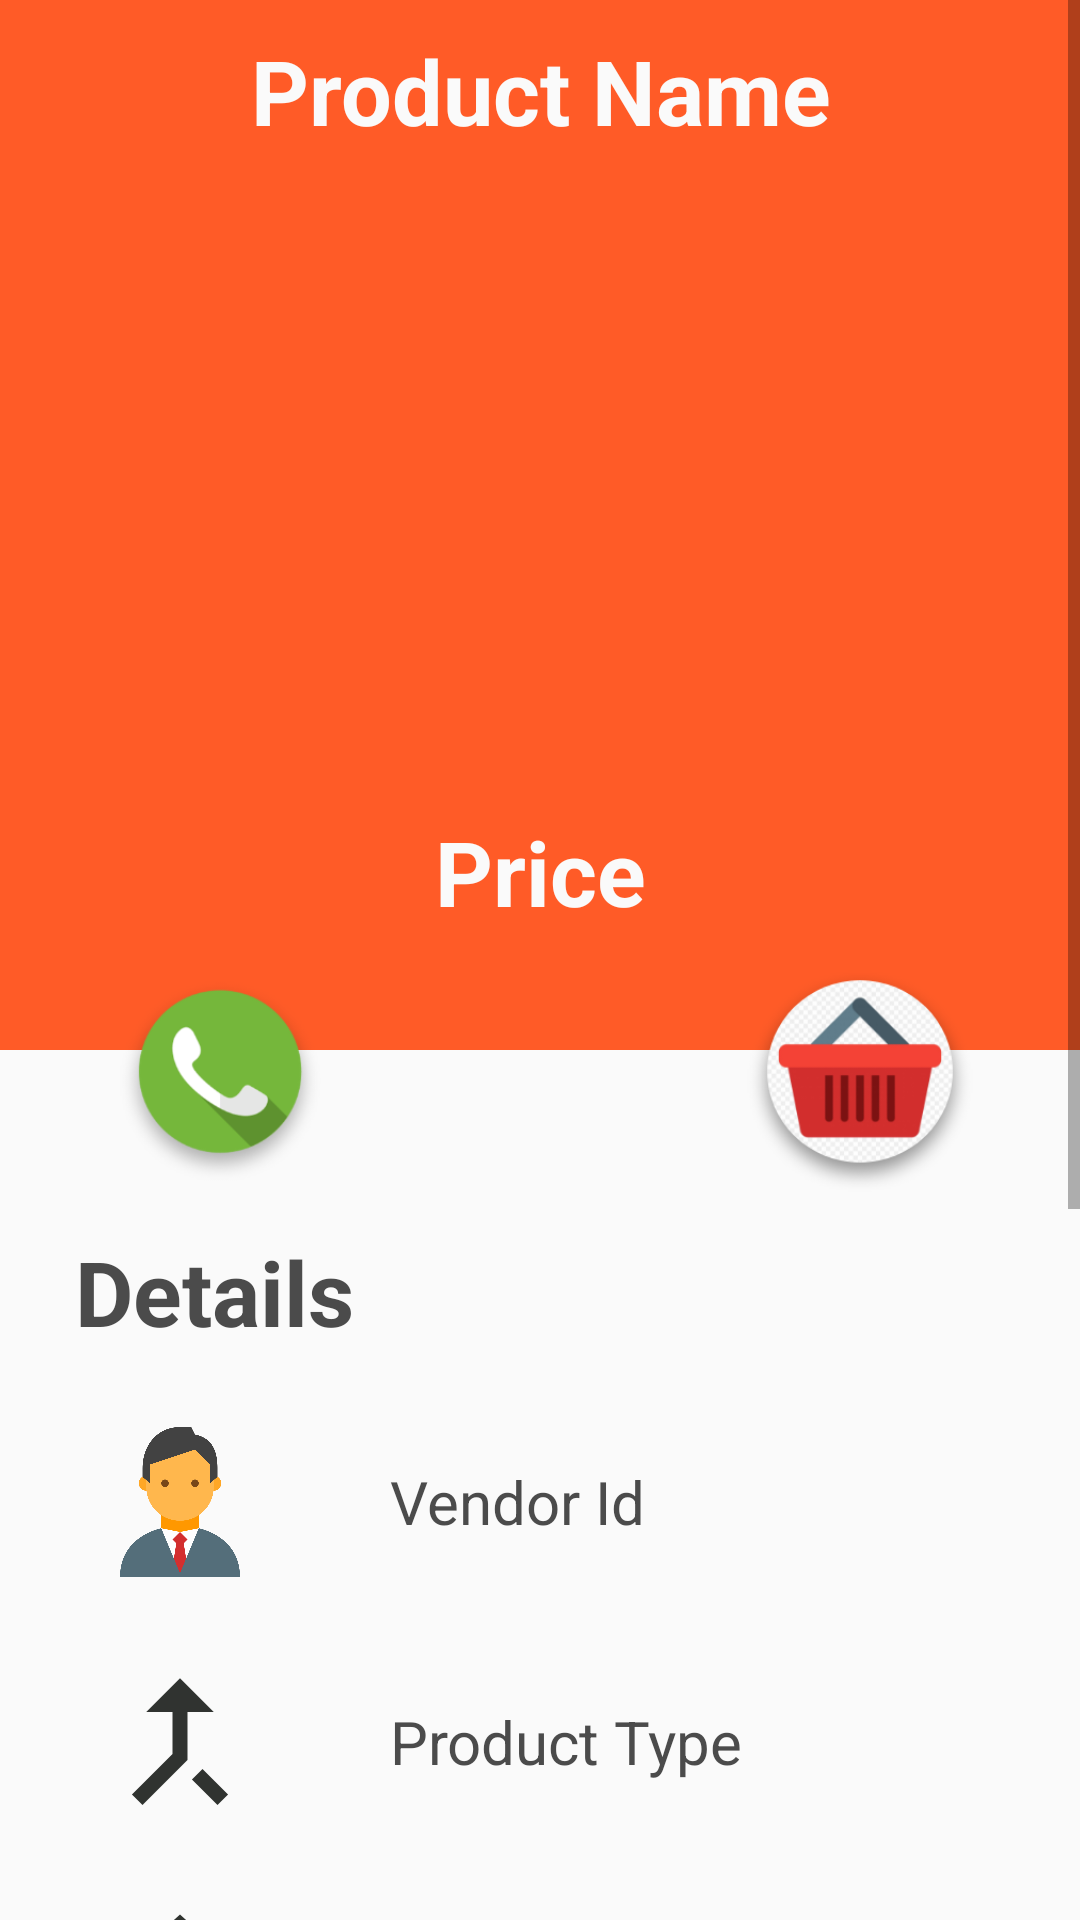

Where to tap for icons on this 1080w x 1920h app screen, as (x=x, y=y):
addcarticon: (x=860, y=1081)
call: (x=220, y=1081)
merge type: (x=180, y=1741)
